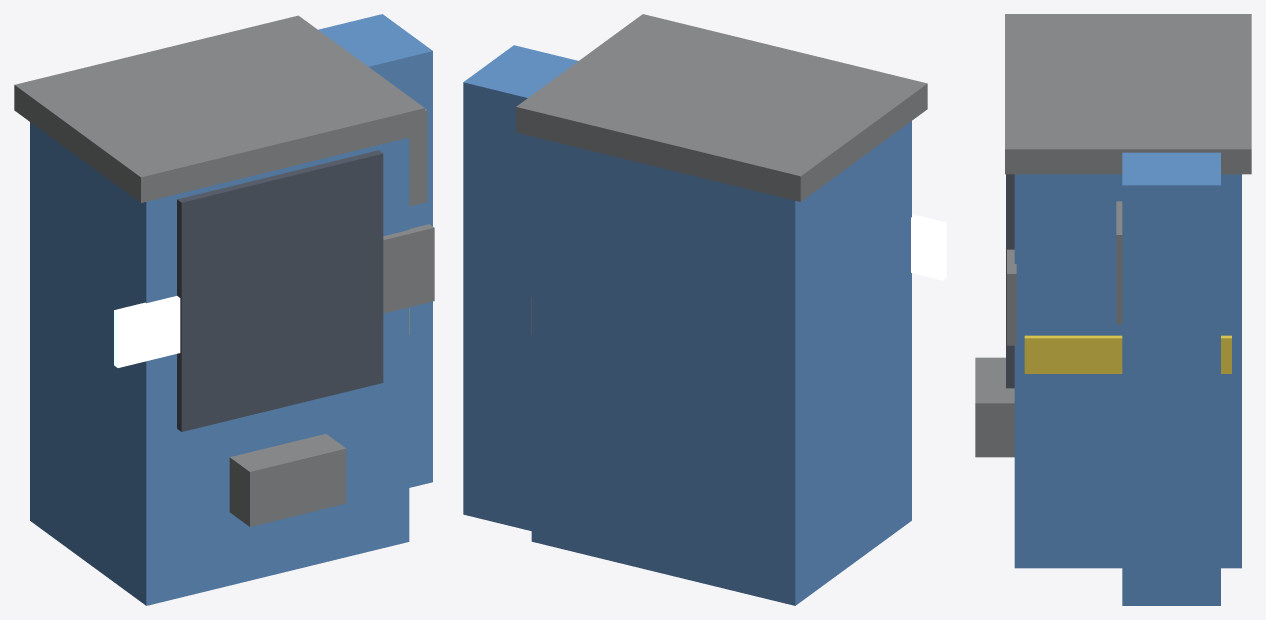
Rendered from machine_autobuyer.glb.
3 views of the same model, side by side, from view 1: azimuth 30°, elevation 25°; view 2: azimuth 150°, elevation 25°; view 3: azimuth 270°, elevation 25° (orthographic). The views are drawn at different scales.
Parts seen in each view (by area): view 1: MA_body, MA_glass, MA_top, MA_tower, MA_chute, MA_keypad, MA_screen, MA_tower_vent; view 2: MA_body, MA_top, MA_tower, MA_screen; view 3: MA_body, MA_tower, MA_top, MA_side_stripe, MA_chute, MA_glass, MA_keypad, MA_tower_vent.
Part boxes in pixels (x1,y1,x2,y2): MA_body: (30, 122, 409, 605); MA_glass: (177, 150, 383, 431); MA_top: (14, 15, 424, 202); MA_tower: (318, 14, 432, 487); MA_chute: (229, 434, 346, 526); MA_keypad: (383, 224, 434, 313); MA_screen: (114, 296, 180, 367); MA_tower_vent: (409, 109, 427, 206); MA_body: (531, 121, 911, 605); MA_top: (516, 14, 927, 201); MA_tower: (463, 45, 577, 530); MA_screen: (911, 214, 946, 280); MA_body: (1014, 174, 1241, 568); MA_tower: (1122, 152, 1220, 605); MA_top: (1005, 14, 1251, 174); MA_side_stripe: (1024, 335, 1231, 373); MA_chute: (975, 357, 1014, 457); MA_glass: (1006, 174, 1014, 388); MA_keypad: (1007, 249, 1016, 345); MA_tower_vent: (1116, 201, 1122, 324).
Bounding box in the file's own units: 2.13 × 2.37 × 1.4.
